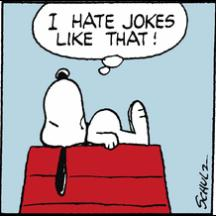snoopy: (40, 67, 150, 197)
